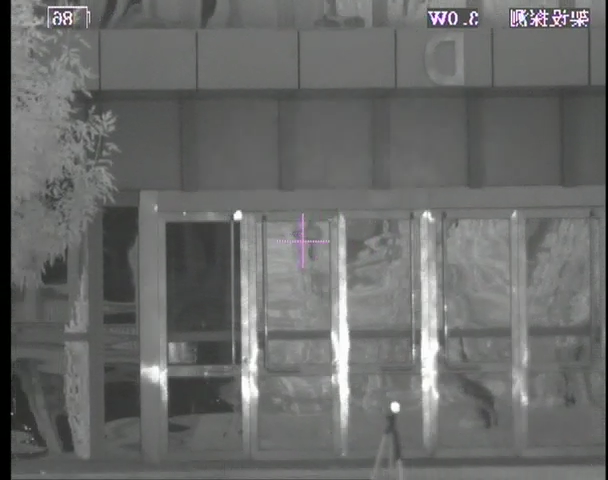my: (389, 400, 401, 415)
